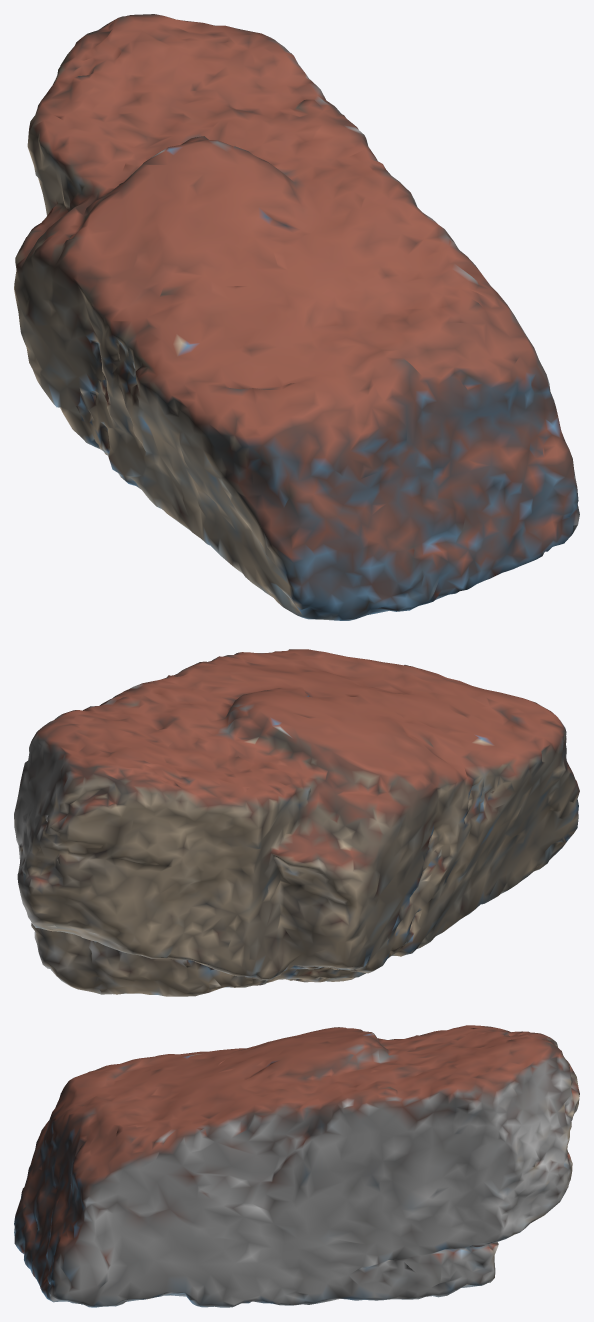
Rendered from rock07.gltf.
The picture shows the model from 3 angles, top to bottom: view 1: azimuth 30°, elevation 25°; view 2: azimuth 150°, elevation 25°; view 3: azimuth 270°, elevation 25°; orthographic projection. The views are drawn at different scales.
Visible parts, largest first — view 1: rock_07; view 2: rock_07; view 3: rock_07.
Boxes of the visible parts, bbox=[...] form: rock_07: bbox=[14, 14, 579, 620]; rock_07: bbox=[14, 649, 579, 996]; rock_07: bbox=[14, 1025, 579, 1307].
Size of the model in its own units: 0.1689 by 0.1437 by 0.3203.
